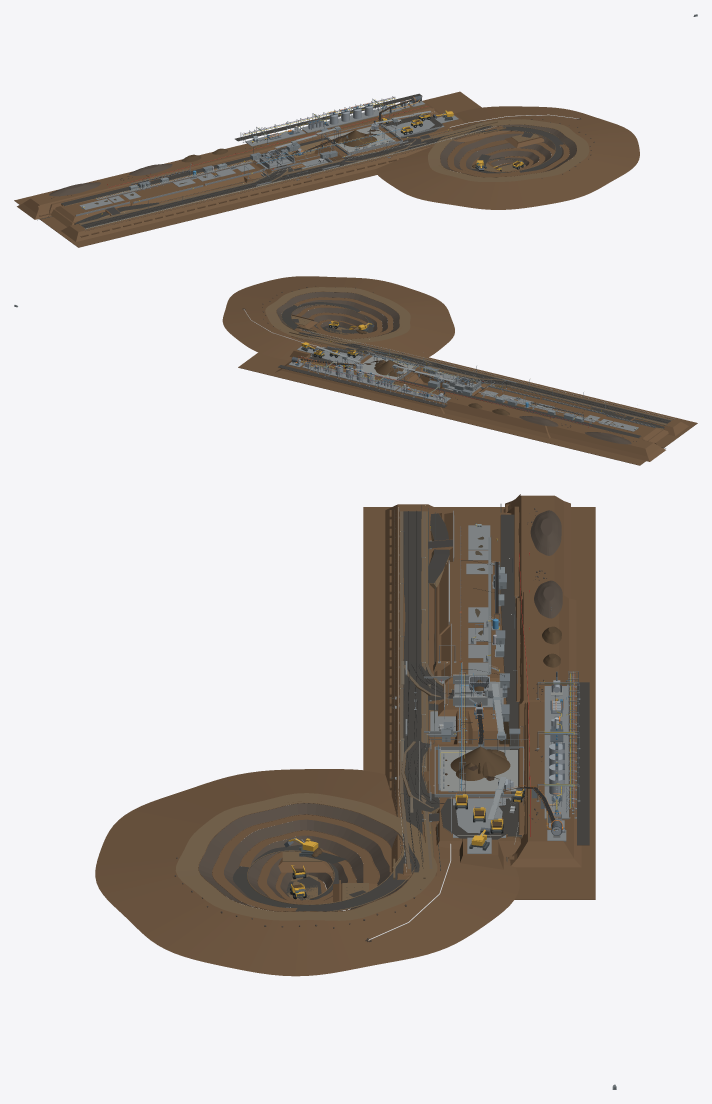
File: PULPA_LAB_V55_FULL_SITE.glb
The picture shows the model from 3 angles, top to bottom: view 1: azimuth 30°, elevation 25°; view 2: azimuth 150°, elevation 25°; view 3: azimuth 270°, elevation 25°; orthographic projection. The views are drawn at different scales.
Visible parts, largest first — view 1: V55_PIT_TERRAIN_ENVELOPE, V16_LOWER_HAUL_BENCH, V16_BASE_GROUND, V53_PIT_COLLAR, V16_MAIN_HAUL_ROAD, V16_TERRACE_LEACH_CIP, V20_BACK_BENCH_CENTER, V20_BACK_BENCH_WEST, V20_BACK_BENCH_EAST, V20_REAR_SERVICE_ROAD, V53_PIT_RAMP_9M, V53_PIT_FACE_01 (+14 smaller); view 2: V55_PIT_TERRAIN_ENVELOPE, V16_BASE_GROUND, V53_PIT_COLLAR, V20_BACK_BENCH_CENTER, V20_BACK_BENCH_WEST, V20_BACK_BENCH_EAST, V16_MAIN_HAUL_ROAD, V16_LOWER_HAUL_BENCH, V53_PIT_FACE_01, V20_REAR_SERVICE_ROAD, V28_BACK_FILL_EAST, V28_BACK_FILL_WEST (+15 smaller); view 3: V55_PIT_TERRAIN_ENVELOPE, V16_BASE_GROUND, V53_PIT_COLLAR, V16_LOWER_HAUL_BENCH, V16_MAIN_HAUL_ROAD, V20_BACK_BENCH_EAST, V20_BACK_BENCH_CENTER, V53_PIT_FACE_01, V20_REAR_SERVICE_ROAD, V20_BACK_BENCH_WEST, V16_TERRACE_LEACH_CIP, V53_PIT_FACE_02 (+20 smaller).
Boxes of the visible parts, x1,y1,x2,y2 form: V55_PIT_TERRAIN_ENVELOPE: (376, 106, 639, 209); V16_LOWER_HAUL_BENCH: (61, 126, 508, 241); V16_BASE_GROUND: (14, 91, 508, 247); V53_PIT_COLLAR: (428, 119, 589, 181); V16_MAIN_HAUL_ROAD: (81, 125, 492, 228); V16_TERRACE_LEACH_CIP: (118, 175, 210, 205); V20_BACK_BENCH_CENTER: (146, 143, 273, 177); V20_BACK_BENCH_WEST: (23, 174, 154, 213); V20_BACK_BENCH_EAST: (268, 104, 439, 147); V20_REAR_SERVICE_ROAD: (61, 115, 419, 205); V53_PIT_RAMP_9M: (472, 126, 563, 173); V53_PIT_FACE_01: (440, 124, 576, 174); V55_PIT_TERRAIN_ENVELOPE: (222, 276, 454, 360); V16_BASE_GROUND: (238, 328, 697, 465); V53_PIT_COLLAR: (265, 287, 410, 343); V20_BACK_BENCH_CENTER: (438, 391, 553, 433); V20_BACK_BENCH_WEST: (546, 417, 660, 456); V20_BACK_BENCH_EAST: (281, 357, 442, 409); V16_MAIN_HAUL_ROAD: (298, 332, 670, 423); V16_LOWER_HAUL_BENCH: (295, 328, 688, 436); V53_PIT_FACE_01: (276, 292, 399, 336); V20_REAR_SERVICE_ROAD: (307, 357, 640, 438); V28_BACK_FILL_EAST: (275, 360, 444, 414); V28_BACK_FILL_WEST: (548, 432, 665, 461); V55_PIT_TERRAIN_ENVELOPE: (95, 769, 519, 976); V16_BASE_GROUND: (363, 507, 595, 899); V53_PIT_COLLAR: (175, 793, 437, 920); V16_LOWER_HAUL_BENCH: (385, 504, 440, 879); V16_MAIN_HAUL_ROAD: (401, 511, 422, 872); V20_BACK_BENCH_EAST: (517, 699, 573, 858); V20_BACK_BENCH_CENTER: (521, 592, 568, 703); V53_PIT_FACE_01: (198, 803, 413, 911); V20_REAR_SERVICE_ROAD: (501, 514, 521, 836); V20_BACK_BENCH_WEST: (512, 495, 563, 599); V16_TERRACE_LEACH_CIP: (439, 562, 501, 634); V53_PIT_FACE_02: (224, 819, 390, 900).
Bounding box in the file's own units: 652 × 27.59 × 236.
